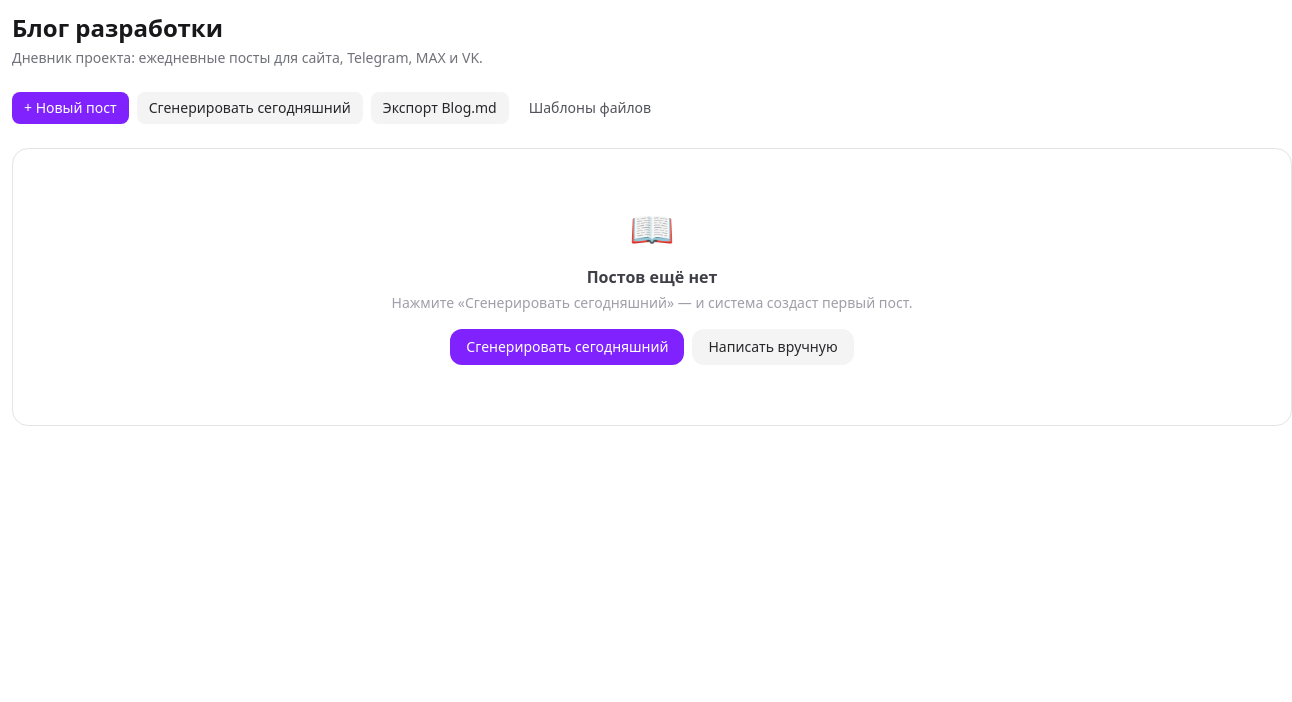
G. Toolbar and scaffold panel › clicking "Шаблоны файлов" again hides the scaffold panel
This screenshot has width=1292, height=702.
Click the button "Шаблоны файлов" at (590, 108), box [517,92,663,124]
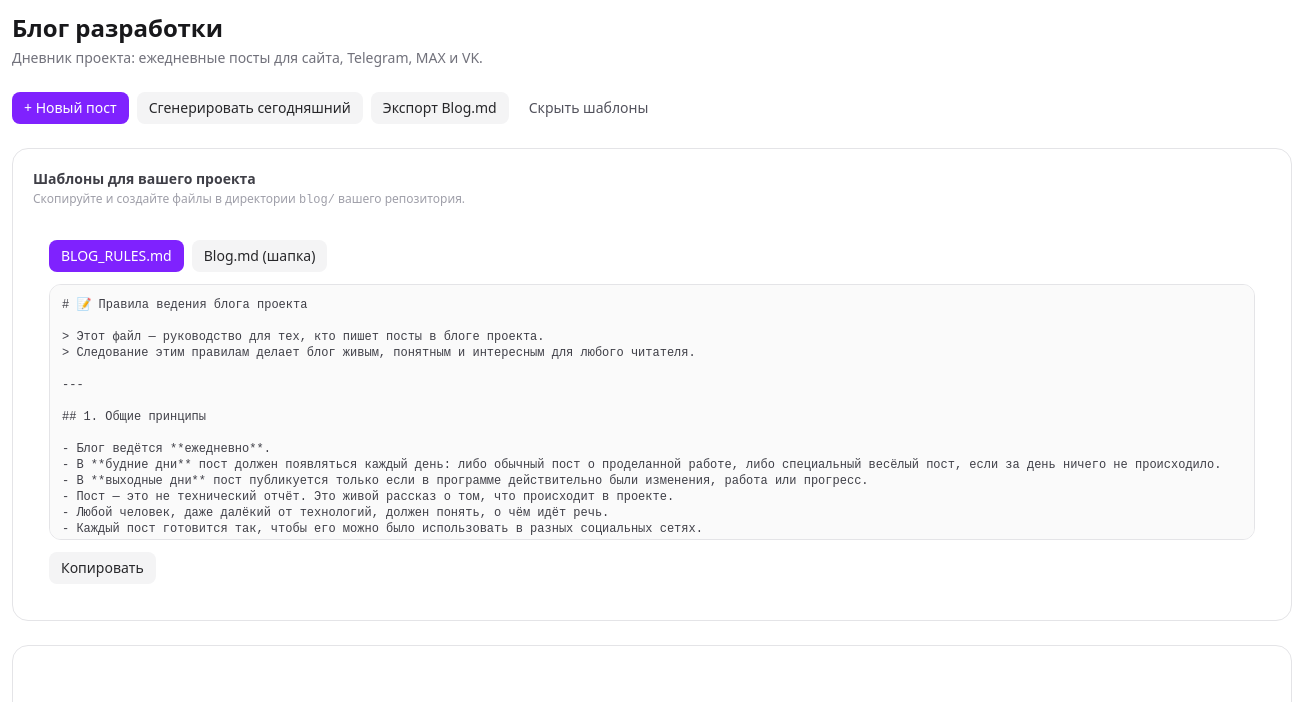
Now the button "Скрыть шаблоны" is shown
Click the button "Скрыть шаблоны" at (588, 108), box [517,92,660,124]
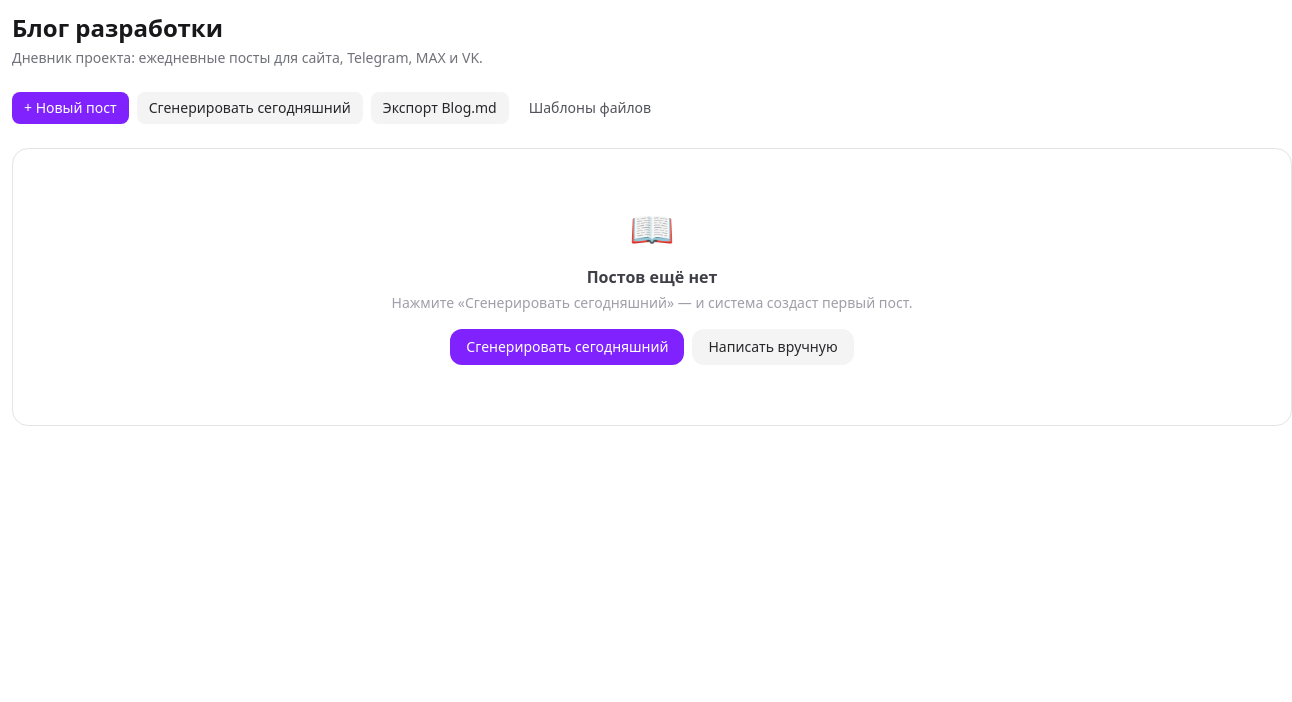
Now the text "Шаблоны для вашего проекта" is gone
